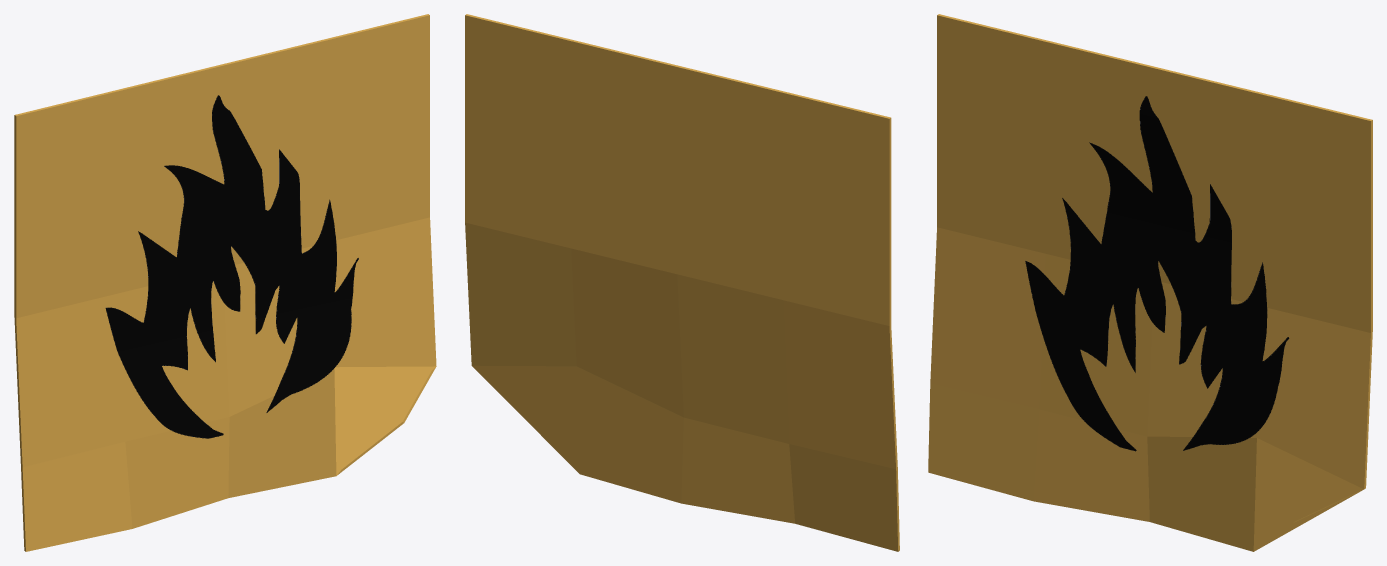
File: FireSticker.fbx
The picture shows the model from 3 angles, left to right: view 1: azimuth 30°, elevation 25°; view 2: azimuth 150°, elevation 25°; view 3: azimuth 330°, elevation 25°; orthographic projection. The views are drawn at different scales.
Parts seen in each view (by area): view 1: Plane, Fore; view 2: Plane; view 3: Plane, Fore.
Part boxes in pixels (x1=…): Plane: x1=14, y1=14, x2=436, y2=551; Fore: x1=105, y1=95, x2=358, y2=438; Plane: x1=465, y1=14, x2=899, y2=551; Plane: x1=928, y1=14, x2=1372, y2=551; Fore: x1=1025, y1=96, x2=1289, y2=451.
Bounding box in the file's own units: 200 × 199 × 21.91.
2 materials, 1 textured.
